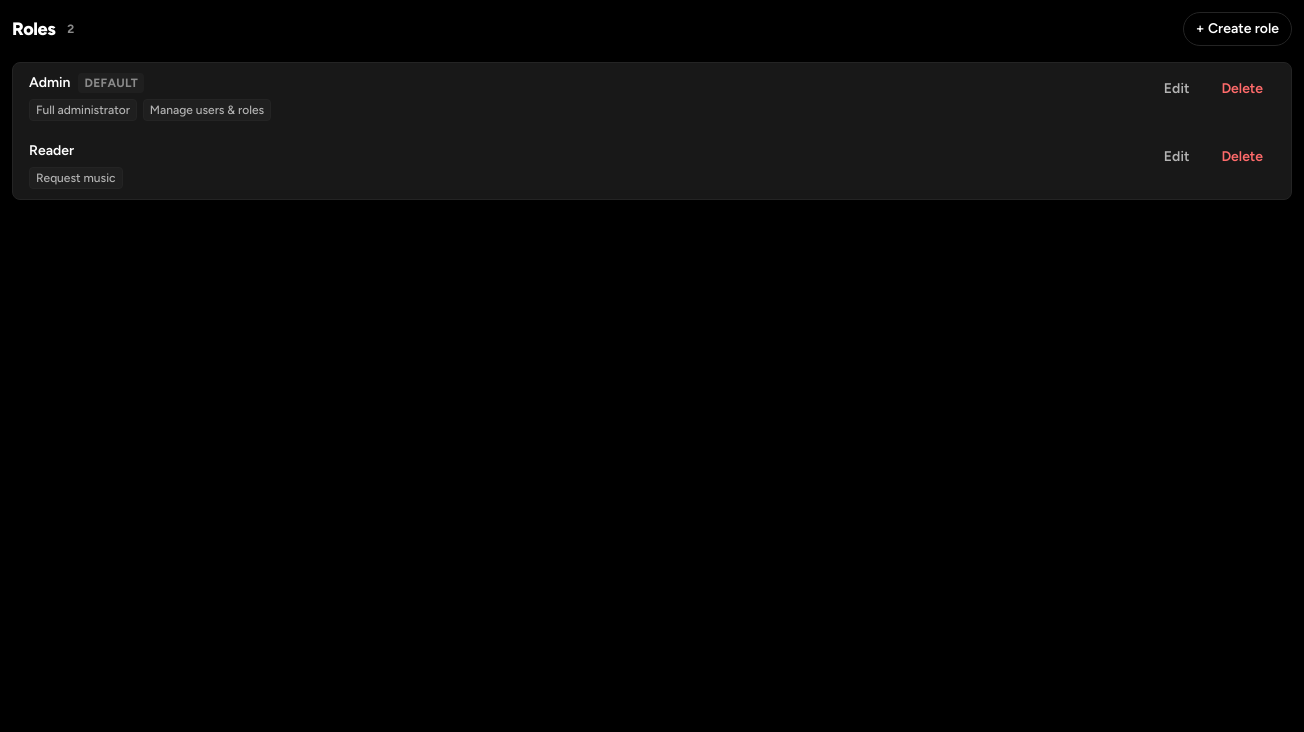
Test: RolesSection › capability descriptions render in the checklist when editing
Click the button "Edit" in the row of "Default": (1177, 89) [1152,73,1201,105]
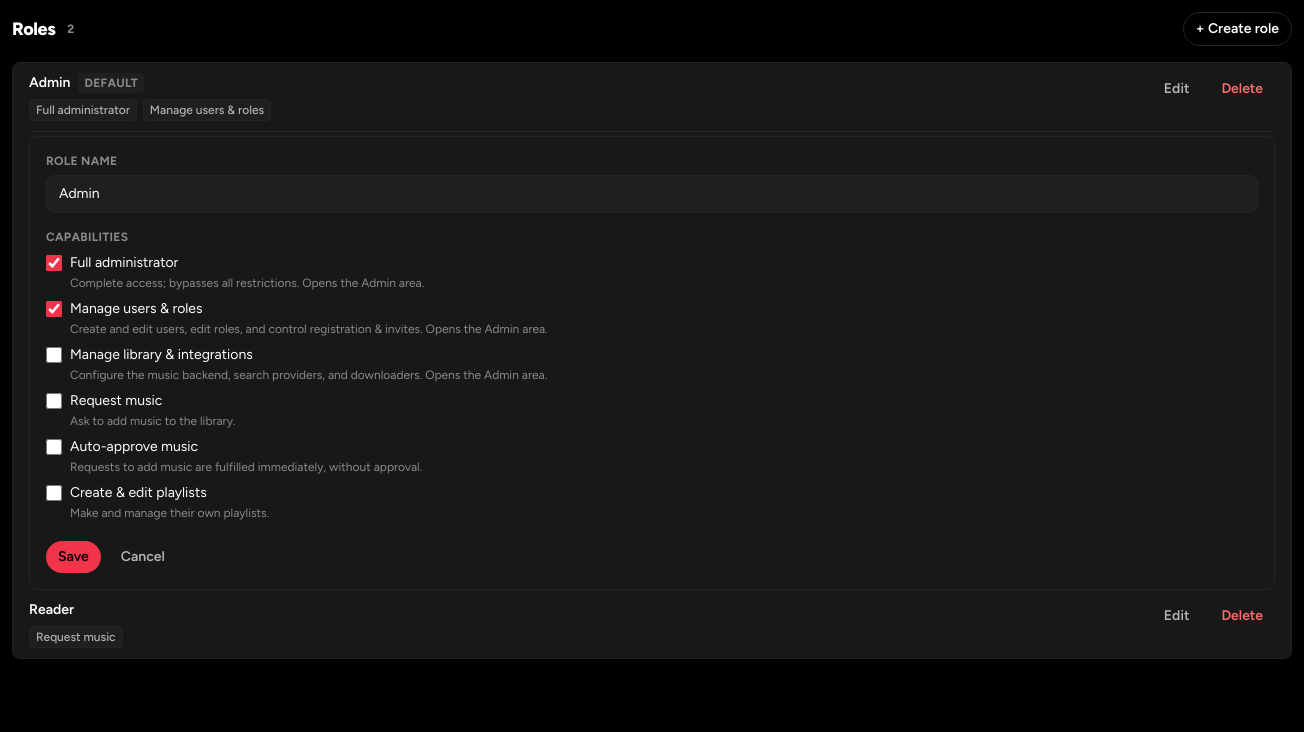
Now the text "Ask to add music to the library." is shown, box [70,414,236,428]
